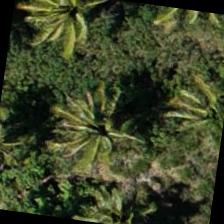Kelapa_Sawit: (56, 74, 158, 176), (20, 0, 119, 67), (168, 62, 223, 160)
